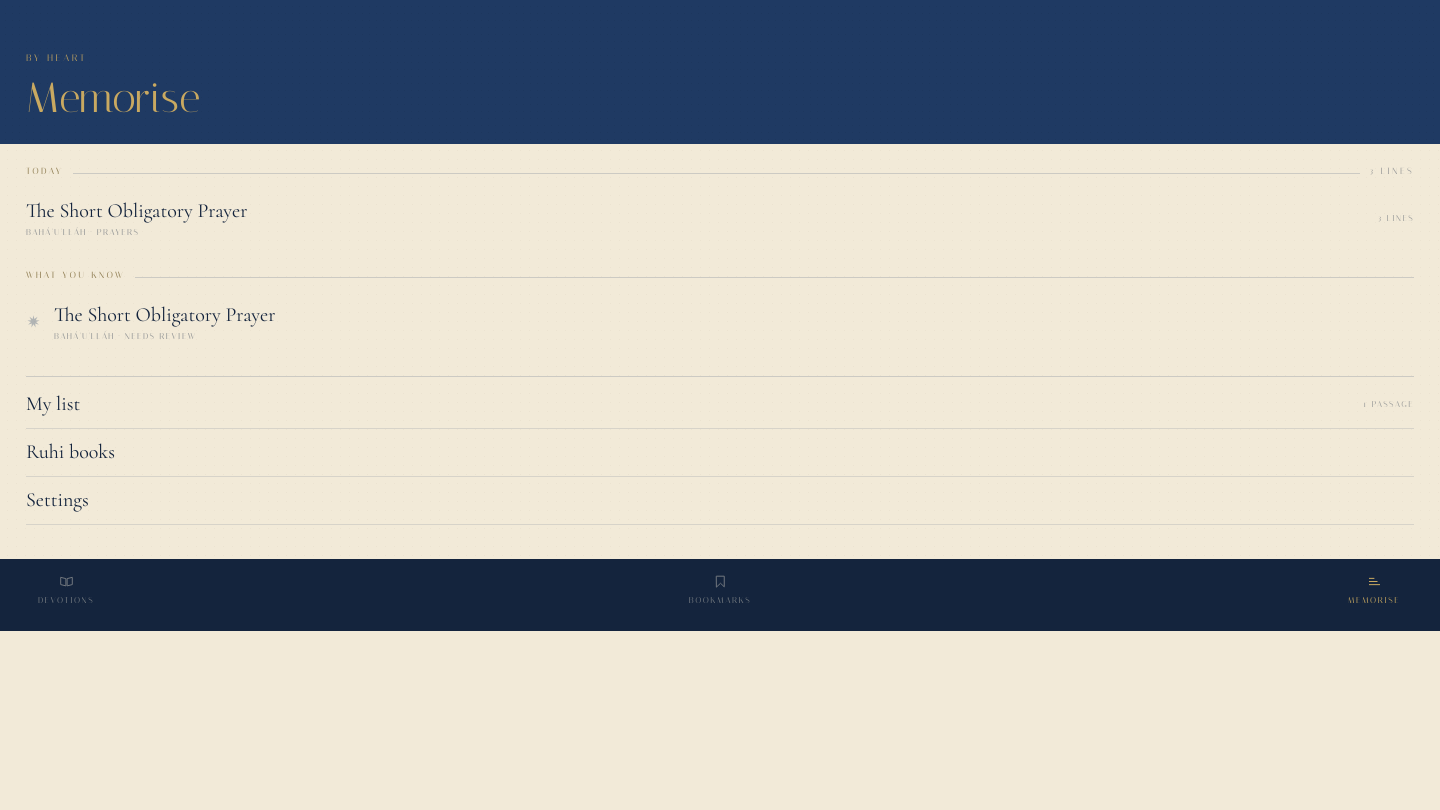
Scenario: levels 2 and 3, the chip cloze › draws the chip without the punctuation the line had
Expected: the heading "Memorise" is shown, [26,73,201,123]
What coordinates should you click on to do the following:
click the link "The Short Obligatory Prayer BAHÁ'U'LLÁH · PRAYERS 3 LINES"
I would click on:
 (137, 211)
Its box is [26,188,1414,248].
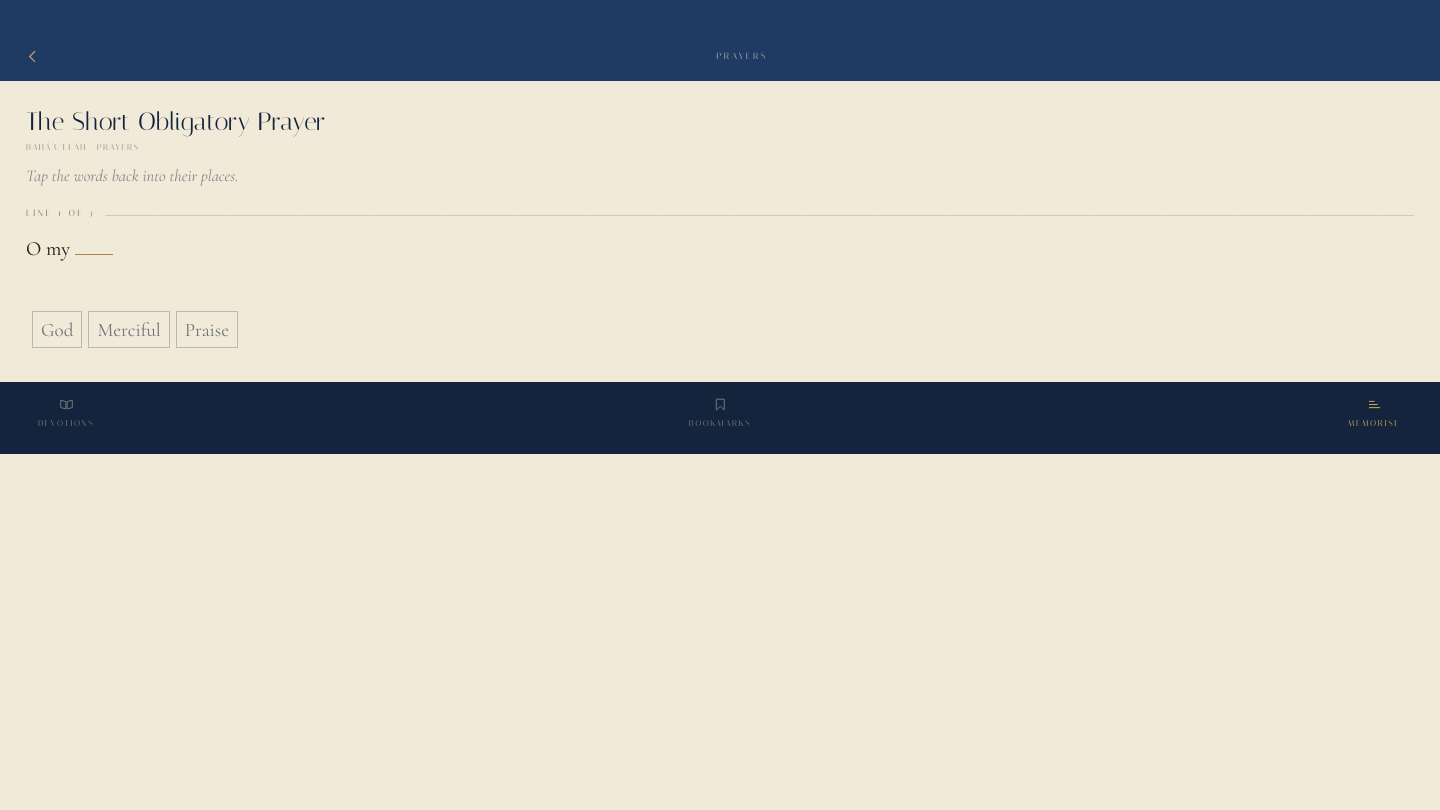
Expected: the element named "Words to choose from" is shown, [32,308,238,352]
